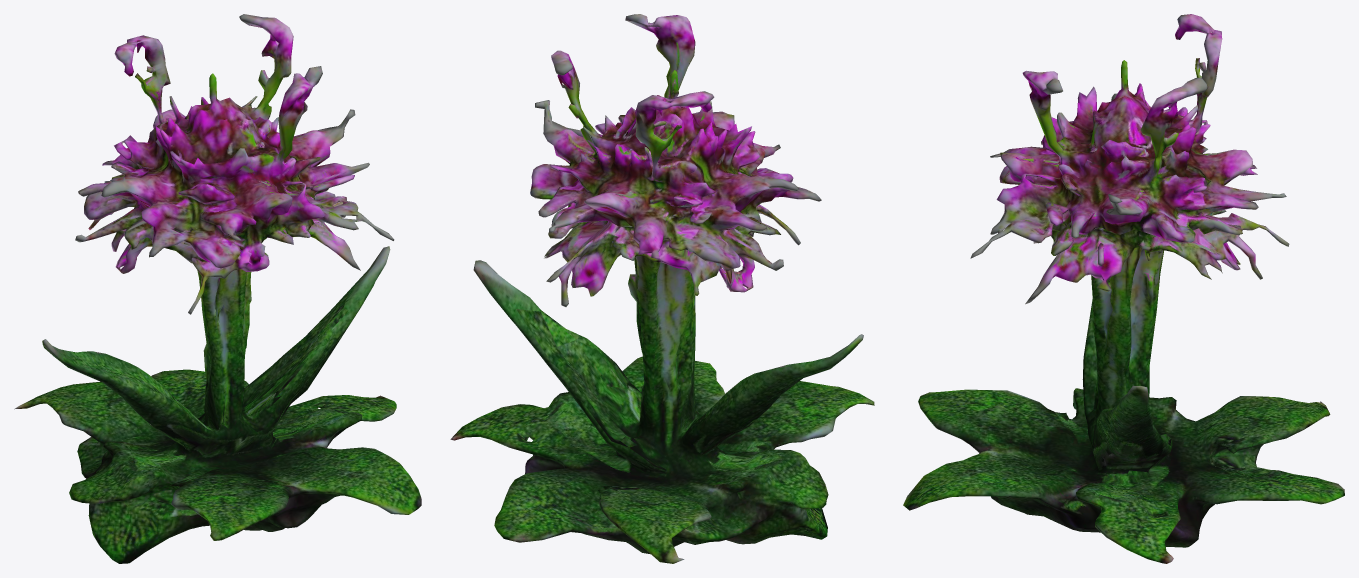
The model's file is 8fa1795291e5_a_very_magical_look.fbx.
3 renders of one model, left to right at view 1: azimuth 30°, elevation 25°; view 2: azimuth 150°, elevation 25°; view 3: azimuth 270°, elevation 25°, orthographic. The views are drawn at different scales.
Parts seen in each view (by area): view 1: mesh; view 2: mesh; view 3: mesh.
Boxes of the visible parts, left/top/right/bottom form: mesh: left=14, top=14, right=421, bottom=563; mesh: left=450, top=14, right=874, bottom=563; mesh: left=903, top=14, right=1344, bottom=563.
Bounding box in the file's own units: 84.18 × 100 × 83.42.
